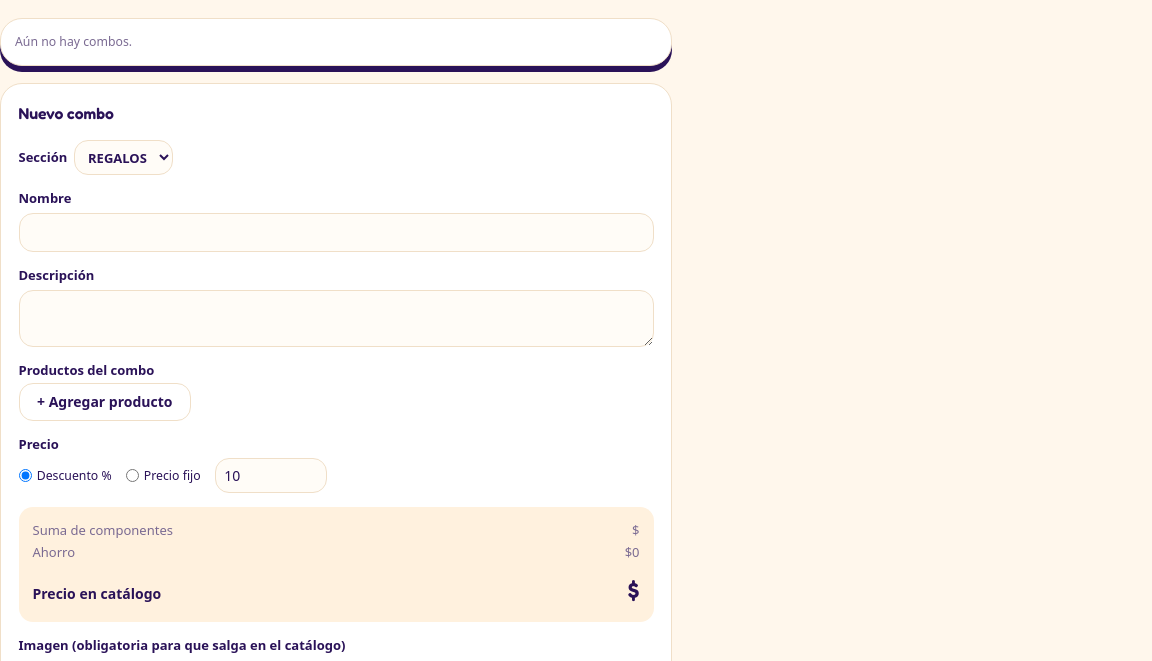
Test: Combos: aviso de componentes agotados › un componente agotado en Alegra muestra «Combo no disponible» con su nombre, y el combo saldrá con badge AGOTADO
expect the heading "Nuevo combo" is shown: met, box [18,104,114,123]
Click the button "+ Agregar producto" at {"x": 105, "y": 402}, box [18,383,191,421]
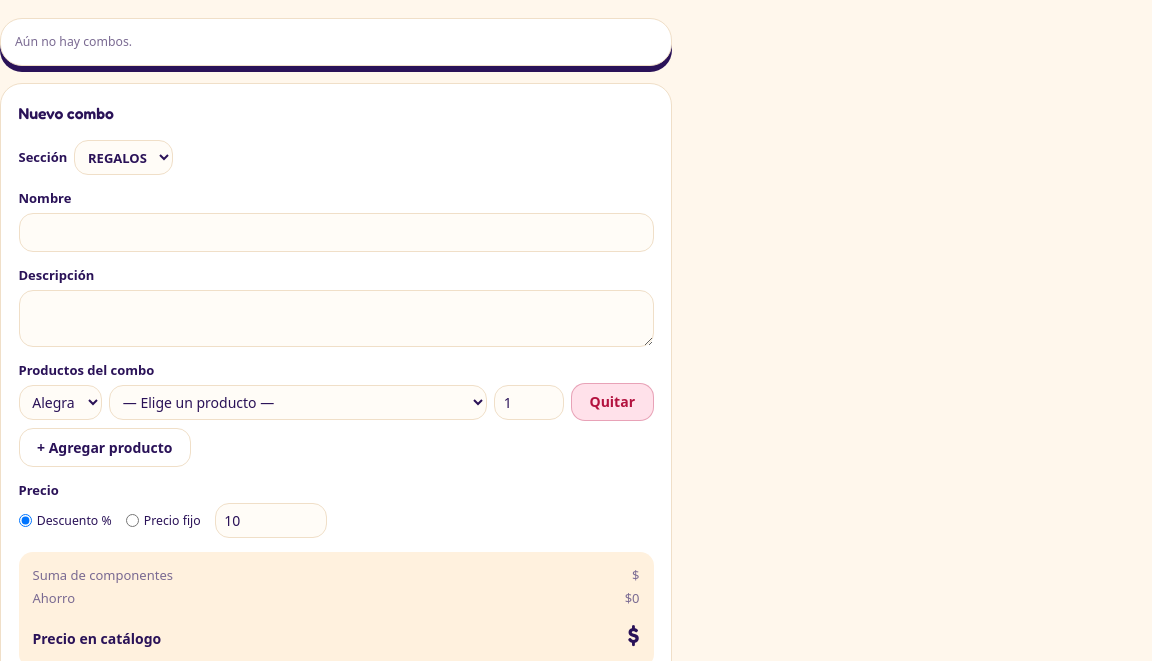
Select "Shin ($9.000)" in the dropdown named "Producto" at {"x": 298, "y": 402}, box [109,385,487,420]
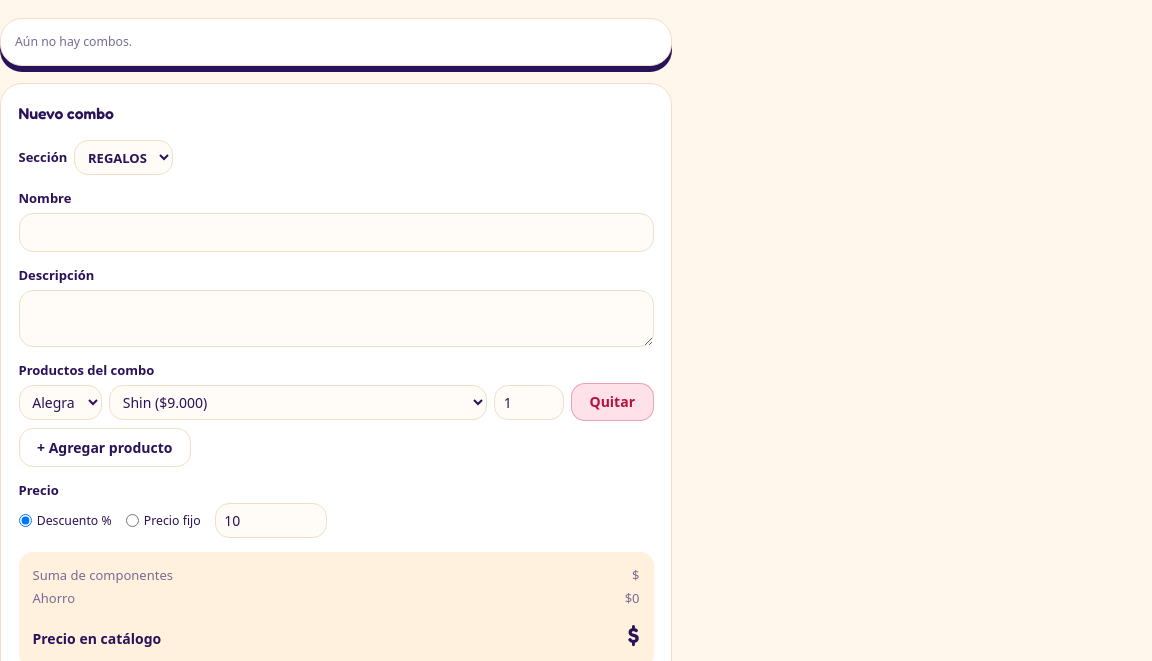
Click the button "+ Agregar producto" at {"x": 105, "y": 448}, box [18,428,191,467]
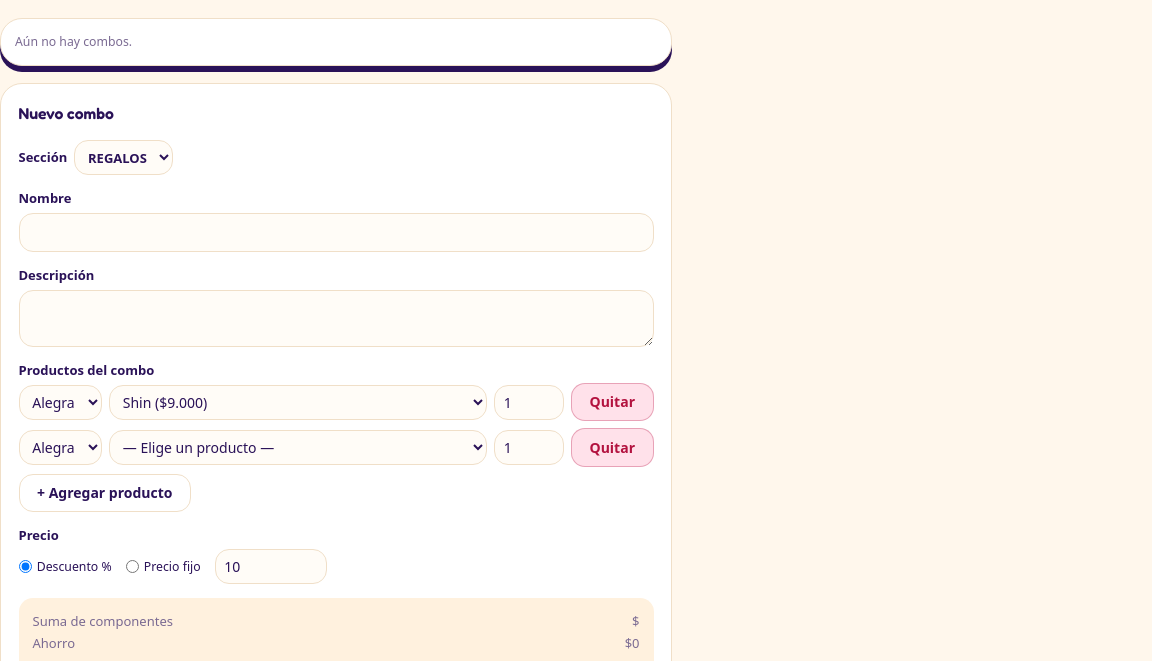
Select "Champong ($12.000)" in the 2nd dropdown named "Producto" at {"x": 298, "y": 448}, box [109,430,487,465]
(page scrolled)
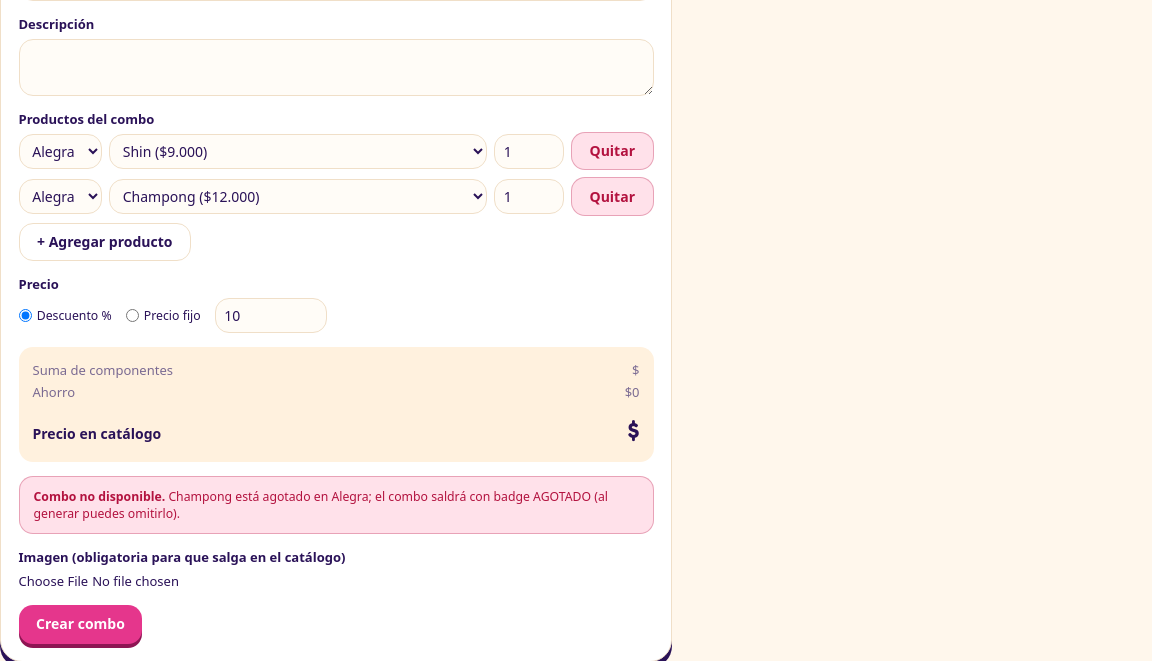
expect the message with test id "bundle-unavailable" shows "Combo no disponible.": met, box [34,488,165,505]
expect the message with test id "bundle-unavailable" shows "Champong está agotado en Alegra": met, box [18,476,654,534]
expect the message with test id "bundle-unavailable" shows "el combo saldrá con badge AGOTADO": met, box [34,488,608,522]
